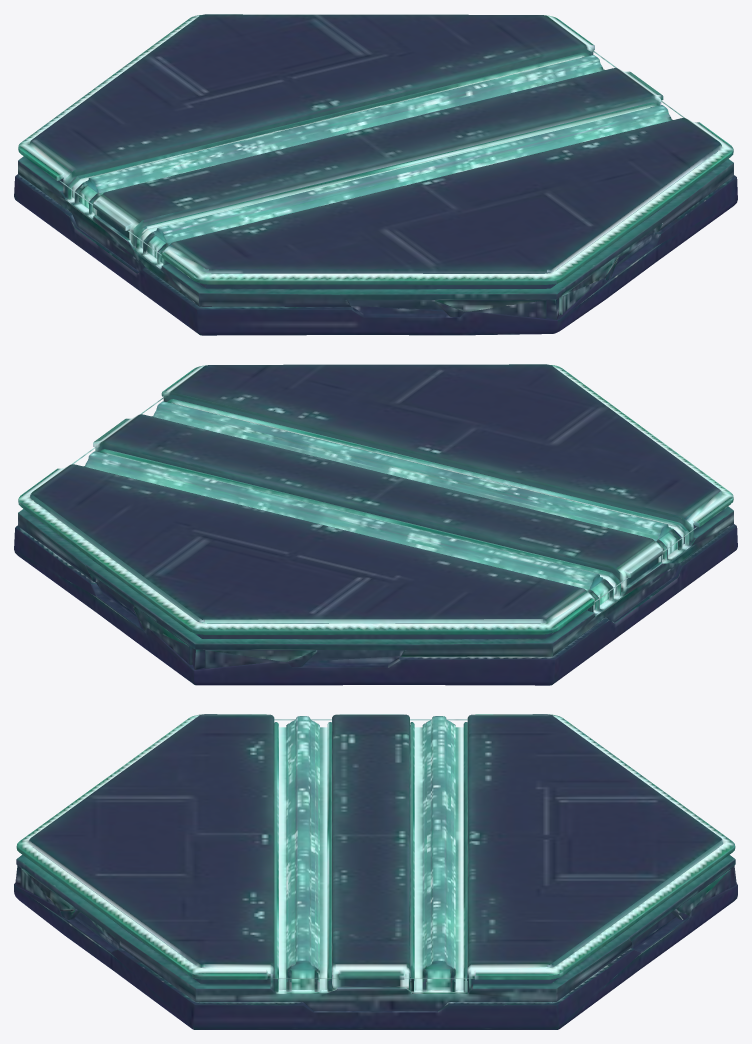
Rendered from prairie_v1.glb.
The picture shows the model from 3 angles, top to bottom: view 1: azimuth 30°, elevation 25°; view 2: azimuth 150°, elevation 25°; view 3: azimuth 270°, elevation 25°; orthographic projection.
Parts seen in each view (by area): view 1: tripo_node_66bdddcd-2a31-4403-831c-bec0cb8f5835; view 2: tripo_node_66bdddcd-2a31-4403-831c-bec0cb8f5835; view 3: tripo_node_66bdddcd-2a31-4403-831c-bec0cb8f5835.
Part boxes in pixels (left/top/right/bottom): tripo_node_66bdddcd-2a31-4403-831c-bec0cb8f5835: left=14, top=14, right=737, bottom=335; tripo_node_66bdddcd-2a31-4403-831c-bec0cb8f5835: left=14, top=364, right=737, bottom=685; tripo_node_66bdddcd-2a31-4403-831c-bec0cb8f5835: left=14, top=714, right=737, bottom=1029.
Size of the model in its own units: 0.8579 by 0.0952 by 0.9995.
Materials: 1 (1 with a texture image).
